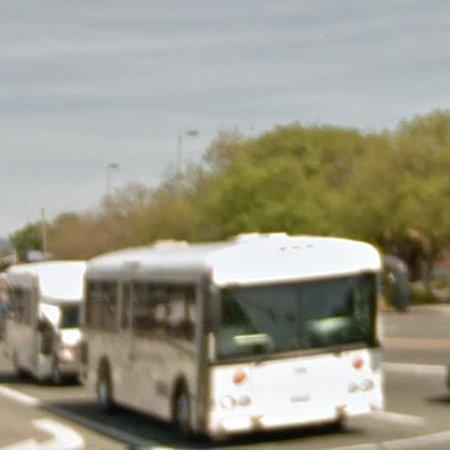buses: (82, 234, 384, 438), (6, 262, 86, 382)
